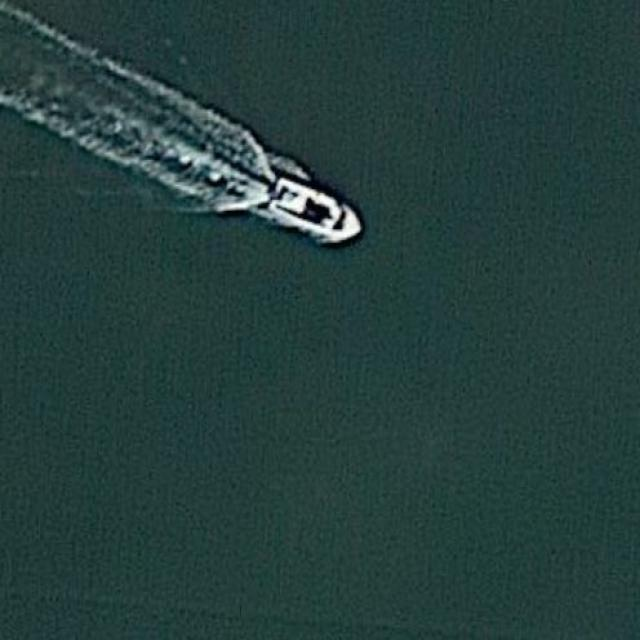boat: (261, 171, 365, 244)
